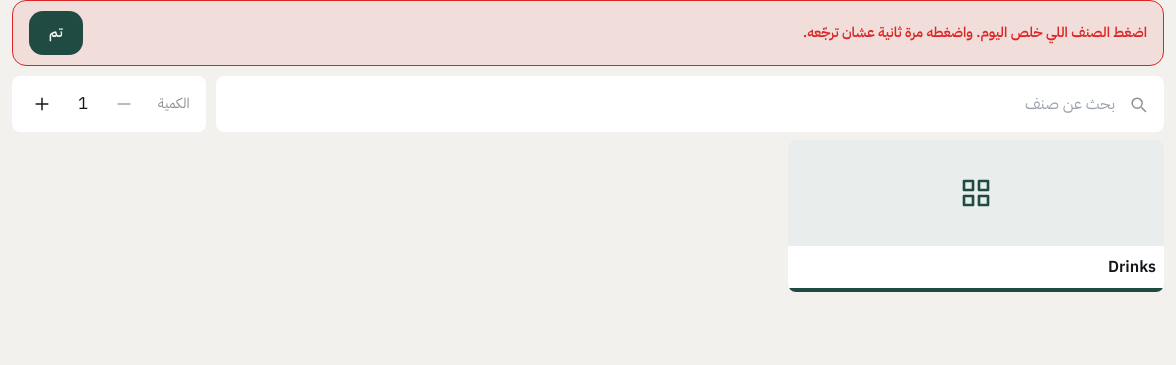
Scenario: marking what is finished for today › marks instead of adding, and says what a tap means
Click the button "Drinks" at (976, 216), box [788,140,1164,292]
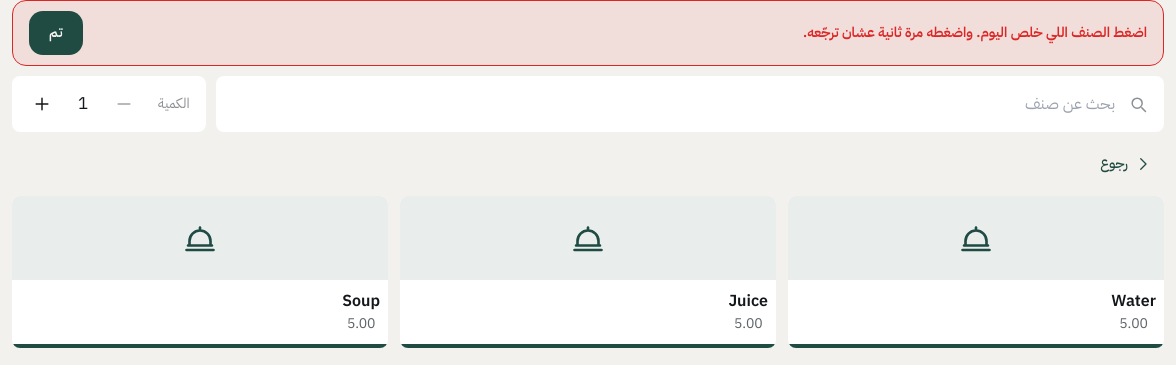
Click the button "Soup 5.00" at (200, 272), box [12,196,388,348]
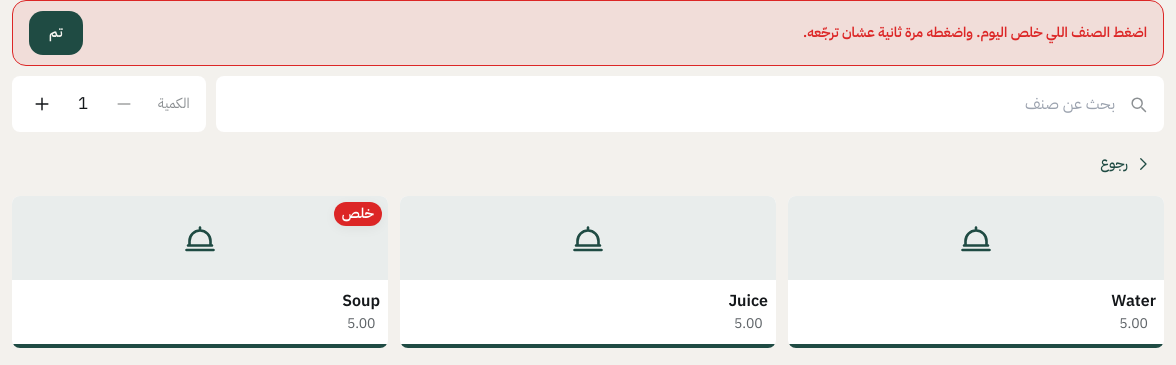
Expected: the element showing "اضغط الصنف اللي خلص اليوم. واضغطه مرة ثانية عشان ترجّعه. تم" is shown, [12,0,1164,66]
Result: the text "خلص" is shown at [334,202,382,226]
